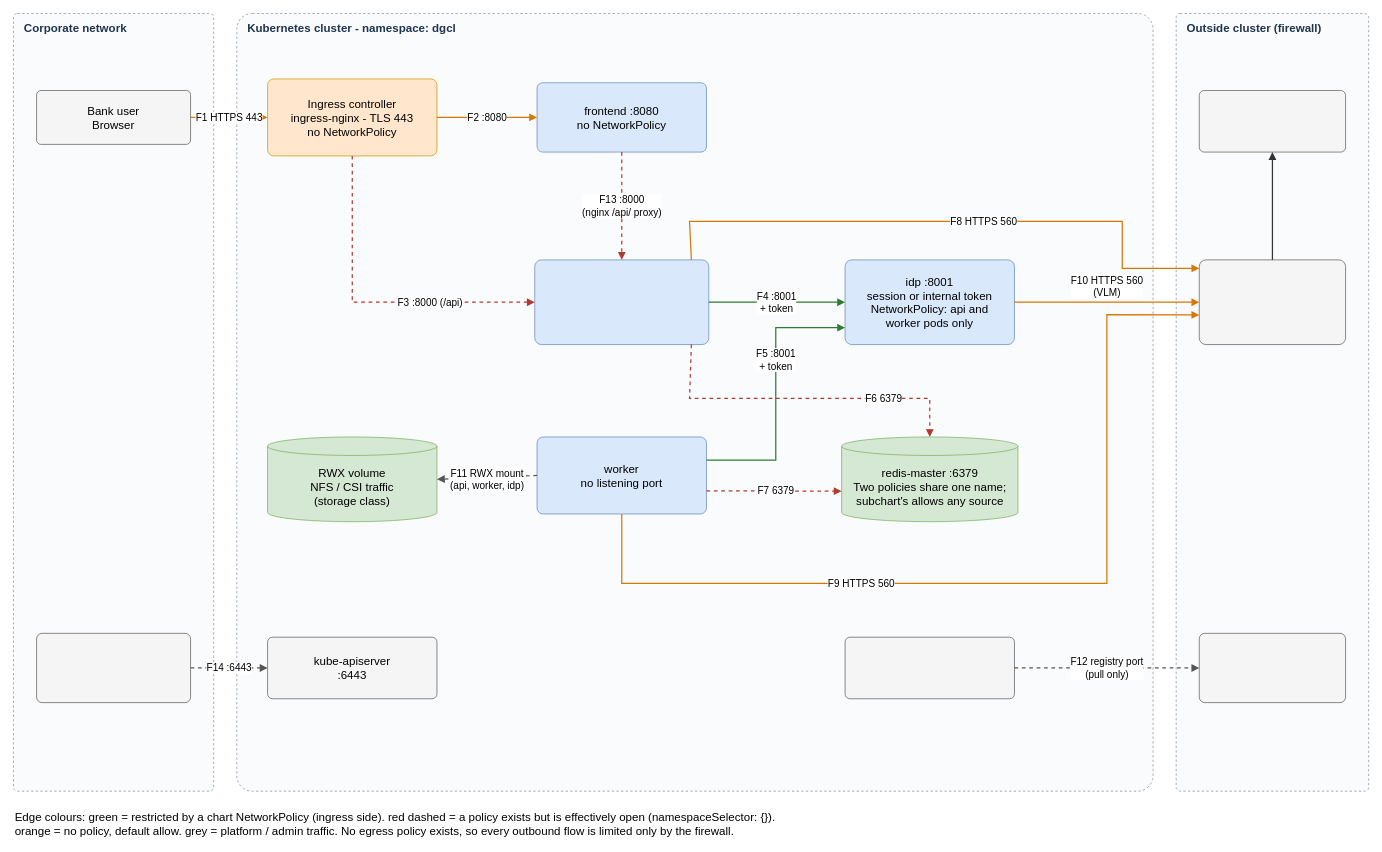
The diagram is 1382 pixels wide and 852 high, and some of its shapes have lost their labels. Here are the shapes that lost their labels. From the top down, the box of each, then its label:
(1199, 90, 1346, 152): Bedrock / Qwen 3.5 (behind LiteLLM)
(534, 259, 709, 345): api :8000 session cookie required NetworkPolicy: frontend pods OR any namespace
(1199, 259, 1346, 345): LiteLLM gateway tsguat1.hdbfs.com port 560 - HTTPS
(36, 633, 191, 703): Jump server kubectl - helm - docker
(844, 636, 1014, 699): kubelet / container runtime (image pull)
(1199, 633, 1346, 703): Internal image registry (pull only)
